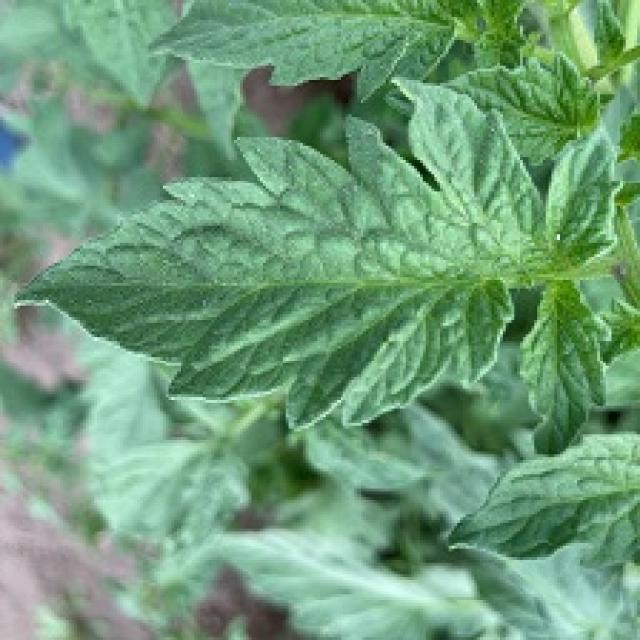Healthy: (8, 50, 625, 452)
